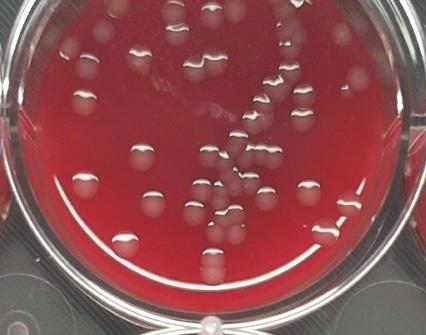vangil: (263, 0, 312, 57), (206, 204, 250, 246), (264, 59, 303, 101), (159, 0, 192, 46), (238, 93, 275, 134), (235, 144, 286, 172), (337, 58, 372, 98), (66, 171, 104, 206), (122, 139, 158, 174), (108, 227, 142, 261), (292, 174, 325, 209), (200, 246, 228, 287), (67, 88, 100, 121), (309, 216, 342, 249), (125, 43, 157, 75), (333, 186, 363, 219), (202, 46, 231, 77), (91, 14, 119, 46), (73, 51, 103, 80), (179, 53, 207, 84), (288, 106, 317, 135), (139, 187, 167, 217), (200, 0, 226, 32), (253, 184, 281, 212), (223, 126, 250, 154), (180, 200, 207, 227), (329, 20, 355, 48), (197, 141, 221, 169), (57, 34, 81, 62), (292, 83, 317, 109), (188, 177, 214, 202), (224, 0, 250, 24)
